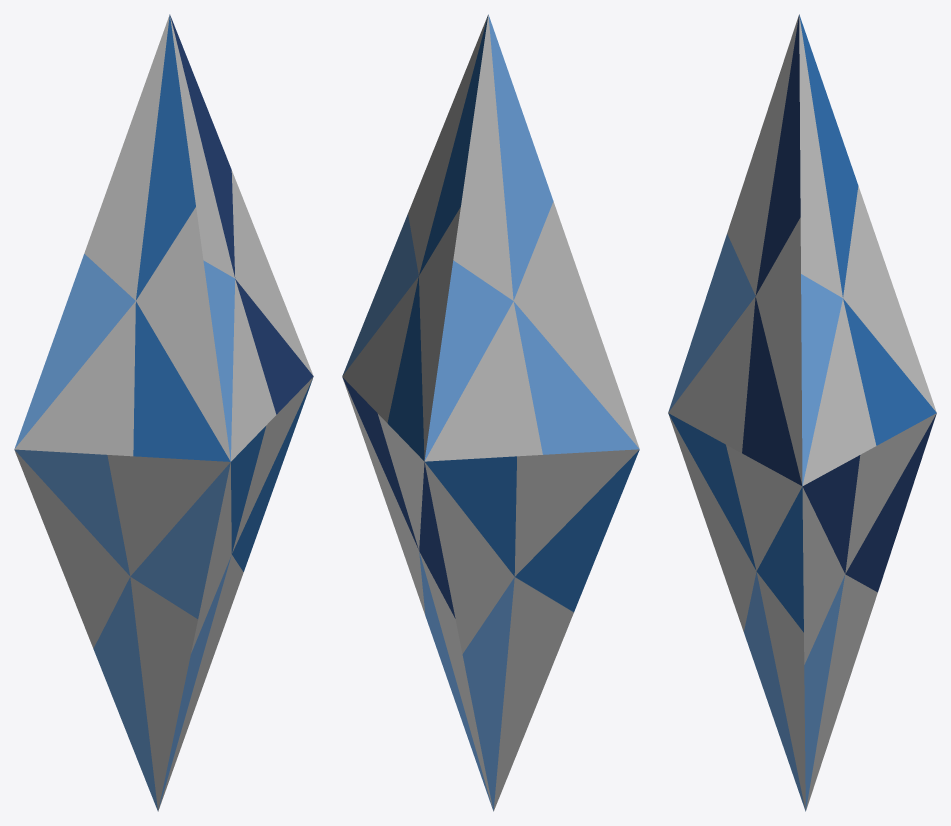
Rendered from wand_crystal_0.obj.
3 views of the same model, side by side, from view 1: azimuth 30°, elevation 25°; view 2: azimuth 150°, elevation 25°; view 3: azimuth 270°, elevation 25° (orthographic).
Parts seen in each view (by area): view 1: cut_amethyst_facets_0; view 2: cut_amethyst_facets_0; view 3: cut_amethyst_facets_0.
Part boxes in pixels (x1,y1,x2,y2): cut_amethyst_facets_0: (14,14,313,811); cut_amethyst_facets_0: (342,14,639,811); cut_amethyst_facets_0: (668,14,936,811).
Bounding box in the file's own units: 0.1325 × 0.3375 × 0.1025.
